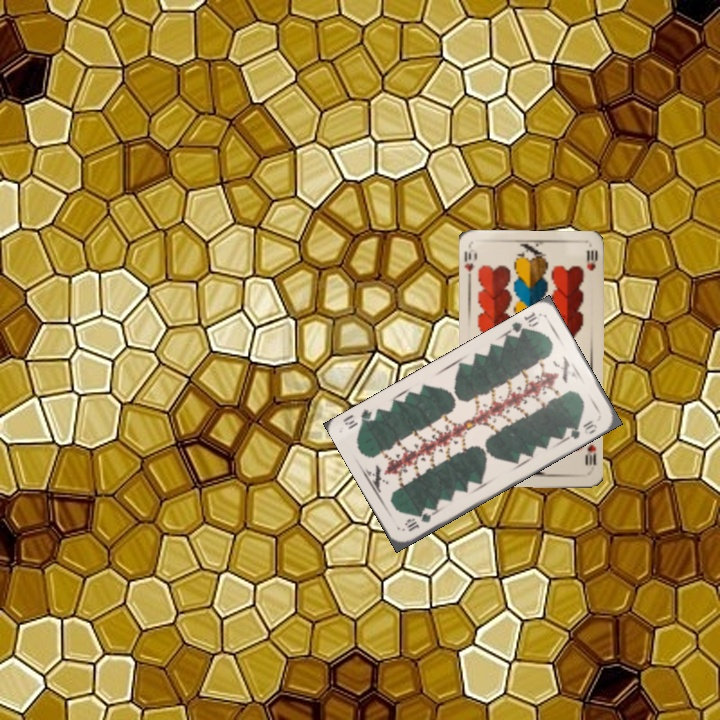G10: (505, 308, 541, 338), (401, 505, 438, 534)
H10: (460, 247, 480, 284), (581, 440, 598, 468)
